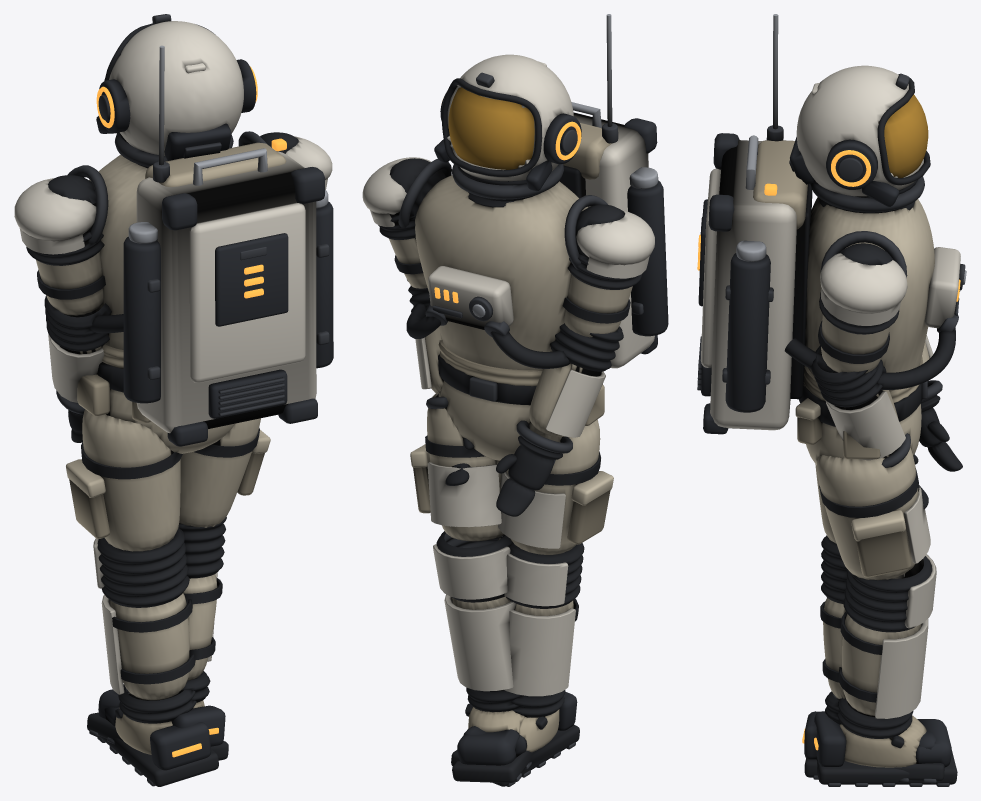
The model's file is astronaut.glb.
3 renders of one model, left to right at view 1: azimuth 30°, elevation 25°; view 2: azimuth 150°, elevation 25°; view 3: azimuth 270°, elevation 25°, orthographic. The views are drawn at different scales.
Parts seen in each view (by area): view 1: Torso, ShinL, Head, ThighL, ArmL, ShinR, ThighR, ForearmL, Hips, ArmR; view 2: Torso, ShinR, Head, ShinL, ForearmL, ThighL, ThighR, ArmL, Hips, ArmR, ForearmR; view 3: Torso, ShinR, Head, ThighR, ArmR, ForearmR, ShinL, Hips, ForearmL.
Part boxes in pixels (<box>): Torso: <box>48,45,333,446</box>; ShinL: <box>93,527,218,786</box>; Head: <box>96,14,257,160</box>; ThighL: <box>66,409,182,551</box>; ArmL: <box>14,178,105,315</box>; ShinR: <box>87,517,228,760</box>; ThighR: <box>179,418,270,527</box>; ForearmL: <box>44,295,111,442</box>; Hips: <box>77,362,234,453</box>; ArmR: <box>285,136,332,189</box>; Torso: <box>389,14,668,386</box>; ShinR: <box>433,531,535,783</box>; Head: <box>434,54,581,191</box>; ShinL: <box>451,535,584,786</box>; ForearmL: <box>496,323,623,516</box>; ThighL: <box>498,419,613,554</box>; ThighR: <box>410,393,504,541</box>; ArmL: <box>562,210,654,337</box>; Hips: <box>431,354,604,460</box>; ArmR: <box>362,157,430,288</box>; ForearmR: <box>407,280,474,485</box>; Torso: <box>697,14,966,434</box>; ShinR: <box>814,554,957,786</box>; Head: <box>789,65,930,206</box>; ThighR: <box>817,448,930,580</box>; ArmR: <box>818,253,907,373</box>; ForearmR: <box>811,345,928,509</box>; ShinL: <box>802,535,944,783</box>; Hips: <box>795,381,927,465</box>; ForearmL: <box>919,335,962,471</box>.
Size of the model in its own units: 0.8066 by 1.95 by 0.6451.
